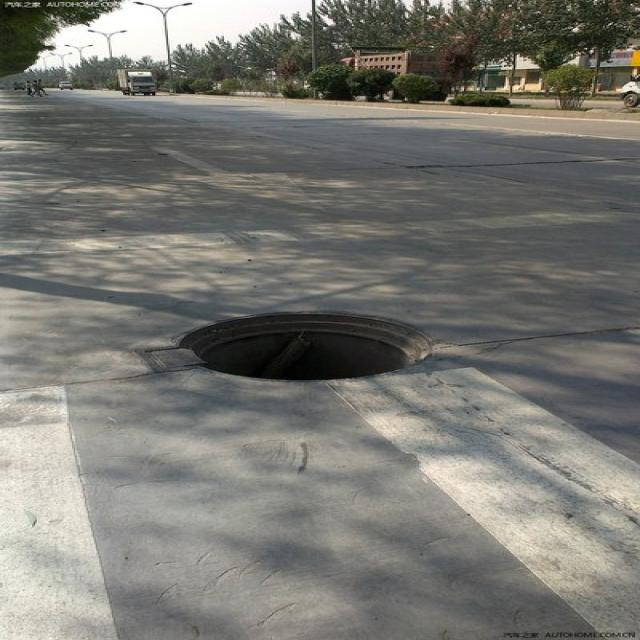manhole: (128, 302, 451, 387)
